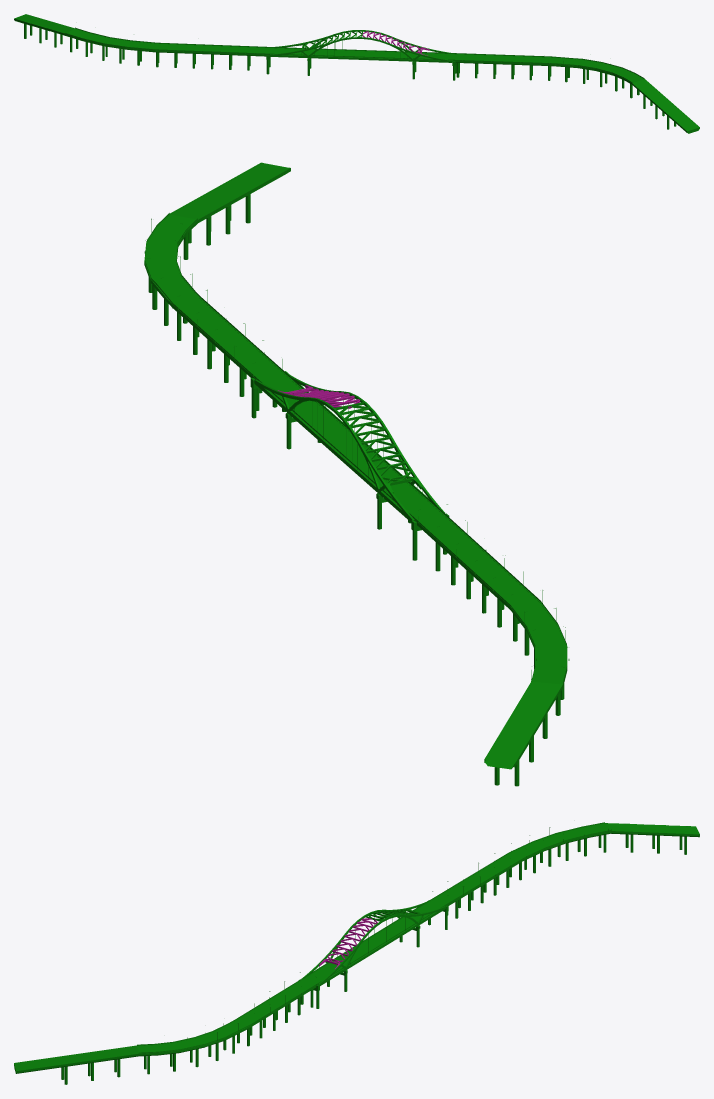
Rendered from bridge.obj.
3 views of the same model, one above another, from view 1: azimuth 30°, elevation 25°; view 2: azimuth 150°, elevation 25°; view 3: azimuth 270°, elevation 25° (orthographic). The views are drawn at different scales.
Visible parts, largest first — view 1: skp4E5D_001, Component_001, Component_002; view 2: skp4E5D_001, Component_002; view 3: skp4E5D_001, Component_001.
Boxes of the visible parts, bbox=[...] form: skp4E5D_001: bbox=[14, 14, 699, 133]; Component_001: bbox=[362, 31, 429, 55]; Component_002: bbox=[295, 30, 362, 51]; skp4E5D_001: bbox=[144, 162, 569, 786]; Component_002: bbox=[339, 405, 421, 493]; skp4E5D_001: bbox=[14, 822, 699, 1084]; Component_001: bbox=[319, 918, 377, 969].
Bounding box in the file's own units: 641525 × 69620 × 771535.
